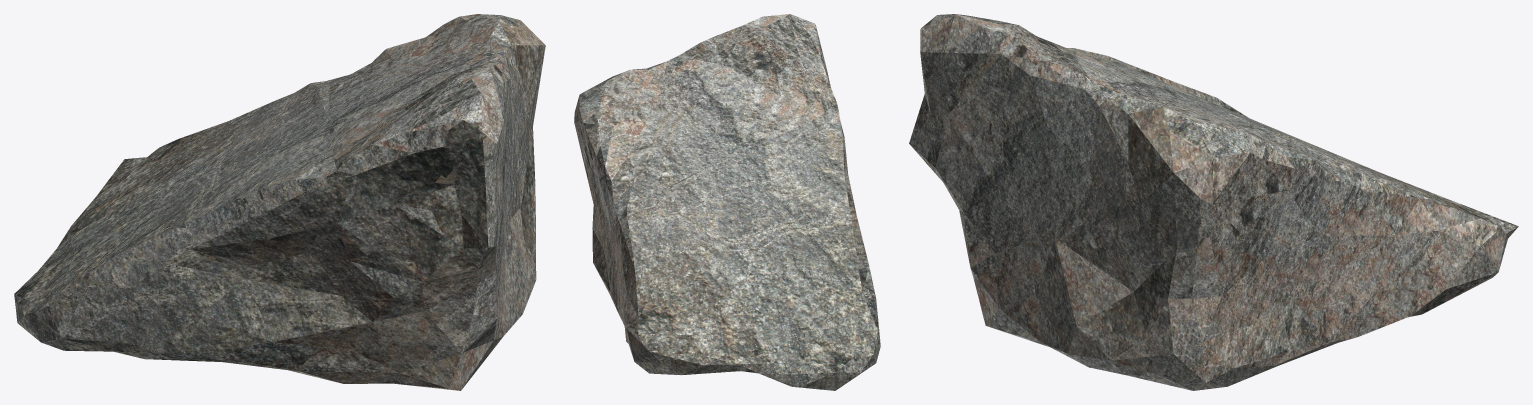
3 views of the same model, side by side, from view 1: azimuth 30°, elevation 25°; view 2: azimuth 150°, elevation 25°; view 3: azimuth 270°, elevation 25° (orthographic). The views are drawn at different scales.
Visible parts, largest first — view 1: group_0; view 2: group_0; view 3: group_0.
Part boxes in pixels (box(x1,y1,x2,y2)): group_0: box(14, 14, 545, 390); group_0: box(574, 14, 880, 390); group_0: box(909, 14, 1518, 390).
Bounding box in the file's own units: 16.74 × 18.54 × 10.85.
